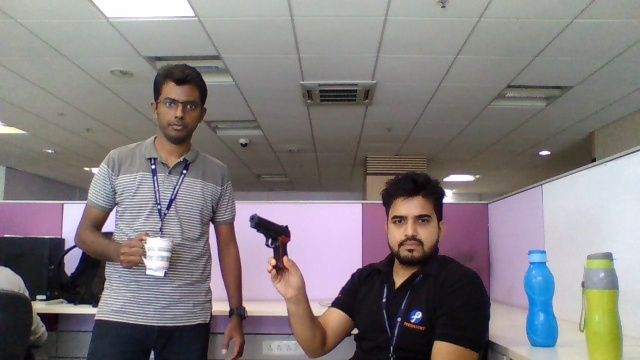gun: (247, 212, 293, 257)
